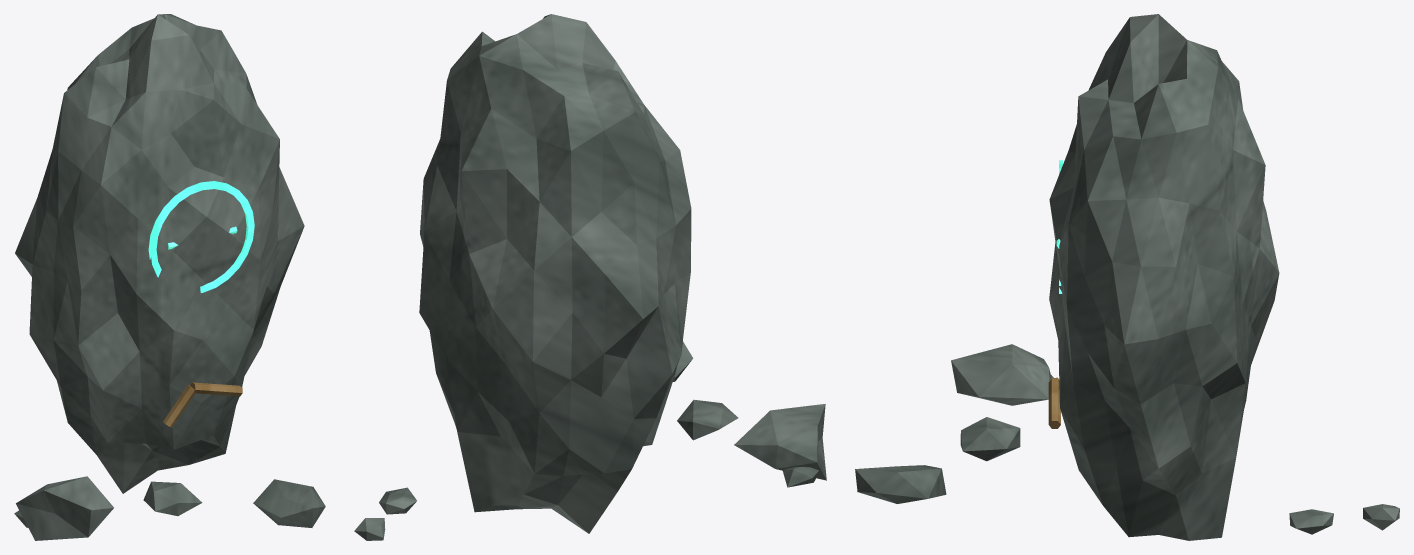
The model's file is 0664_waystone_14.glb.
3 views of the same model, side by side, from view 1: azimuth 30°, elevation 25°; view 2: azimuth 150°, elevation 25°; view 3: azimuth 270°, elevation 25° (orthographic). The views are drawn at different scales.
Parts seen in each view (by area): view 1: stone, glow, brass; view 2: stone; view 3: stone.
Boxes of the visible parts, box(x1,y1,x2,y2) form: stone: box(14, 14, 325, 540); glow: box(148, 181, 254, 292); brass: box(163, 382, 242, 427); stone: box(354, 14, 826, 540); stone: box(855, 14, 1399, 540).
Size of the model in its own units: 1.37 by 1.9 by 1.78.
3 materials, 3 textured.
